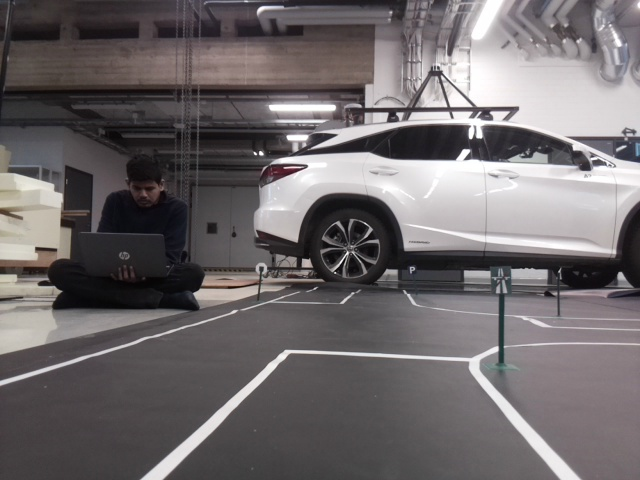HighwayExit: (490, 267, 509, 293)
